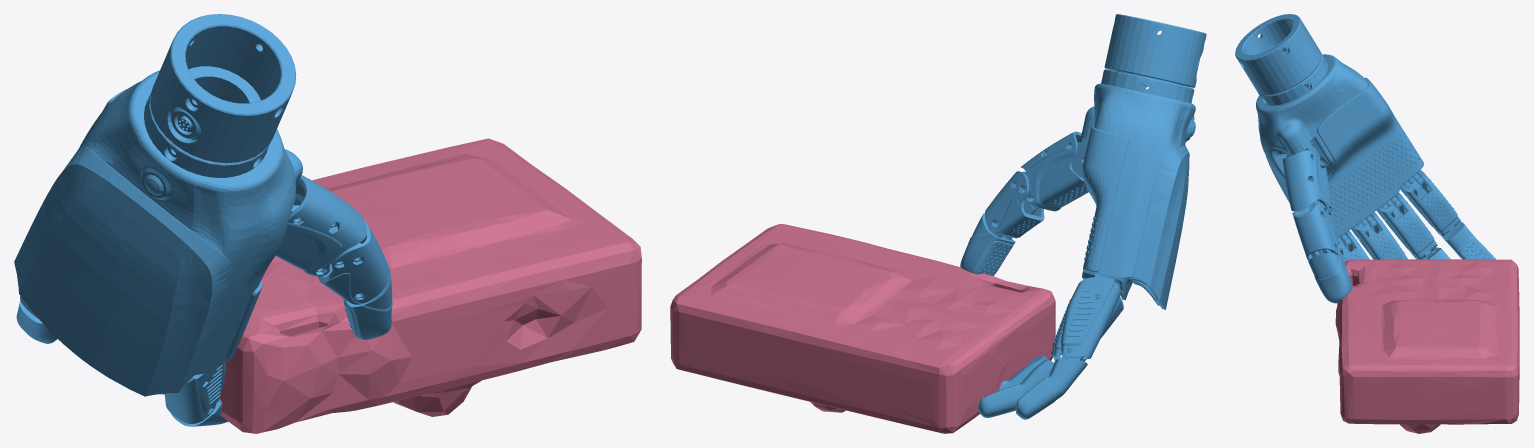
The picture shows the model from 3 angles, left to right: view 1: azimuth 30°, elevation 25°; view 2: azimuth 150°, elevation 25°; view 3: azimuth 270°, elevation 25°; orthographic projection. The views are drawn at different scales.
Visible parts, largest first — view 1: 9; view 2: 9; view 3: 9.
Boxes of the visible parts, x1=… form: 9: x1=14, y1=14, x2=641, y2=433; 9: x1=670, y1=14, x2=1206, y2=433; 9: x1=1235, y1=14, x2=1519, y2=433.
Bounding box in the file's own units: 0.2594 × 0.2322 × 0.1894.
